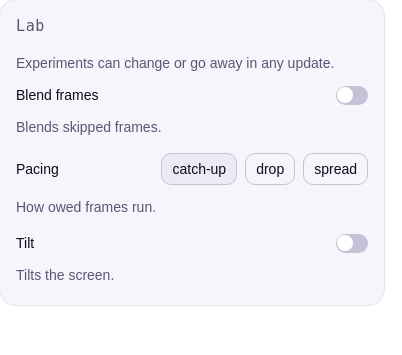
shows a change that couldn't be saved
The image size is (402, 355).
Click the switch named "Blend frames" in the row of "Blend frames": (352, 95) [336,86,368,105]
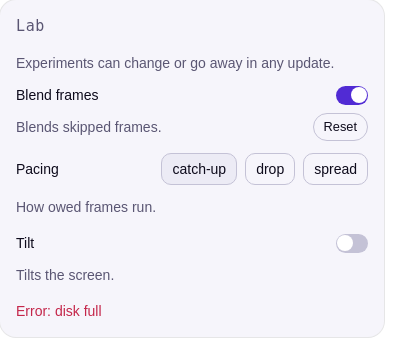
Check: the text "Error: disk full" is shown, box [16,303,102,319]
